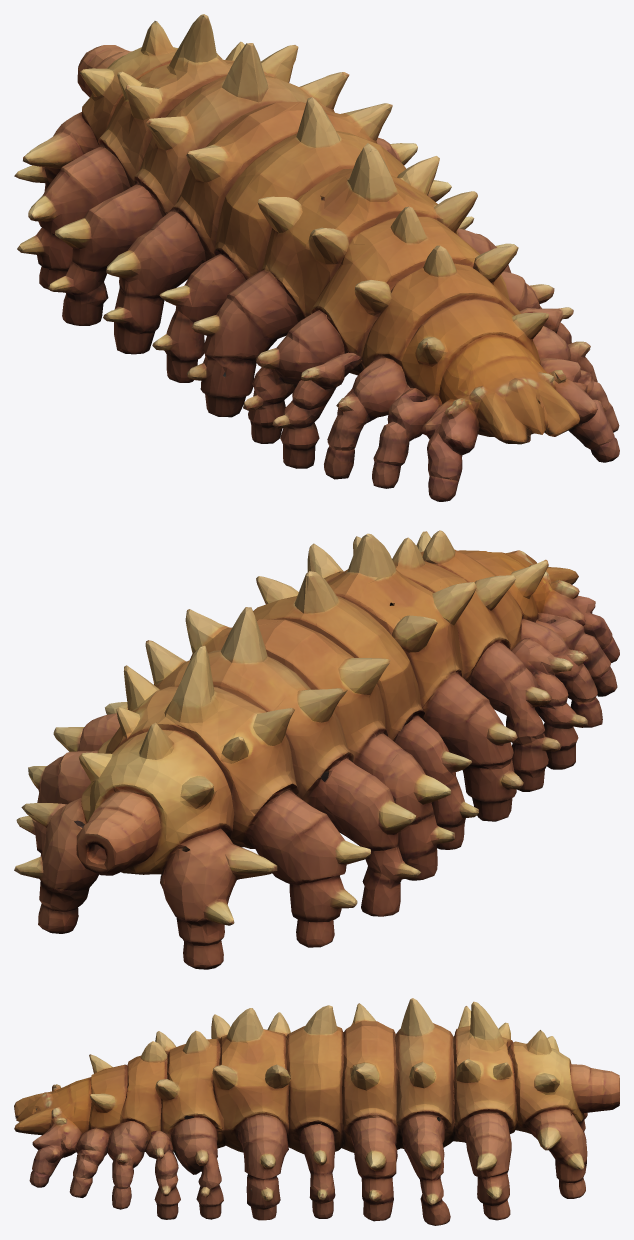
3 renders of one model, top to bottom at view 1: azimuth 30°, elevation 25°; view 2: azimuth 150°, elevation 25°; view 3: azimuth 270°, elevation 25°, orthographic. The views are drawn at different scales.
Visible parts, largest first — view 1: world; view 2: world; view 3: world.
Part boxes in pixels (x1,y1,x2,y2): world: [14, 14, 619, 501]; world: [14, 530, 619, 969]; world: [14, 998, 619, 1225].
Size of the model in its own units: 0.484 by 0.3197 by 1.
1 material, 1 textured.
